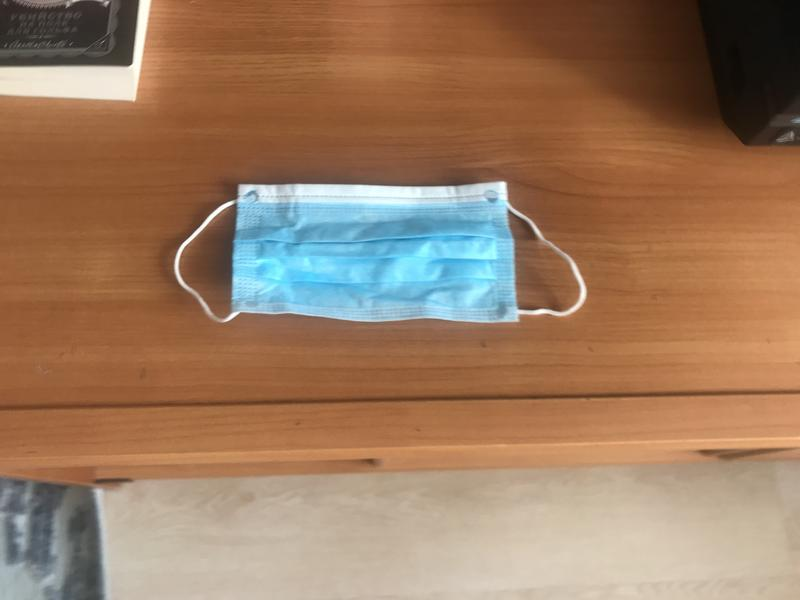medical_mask: (174, 183, 584, 323)
